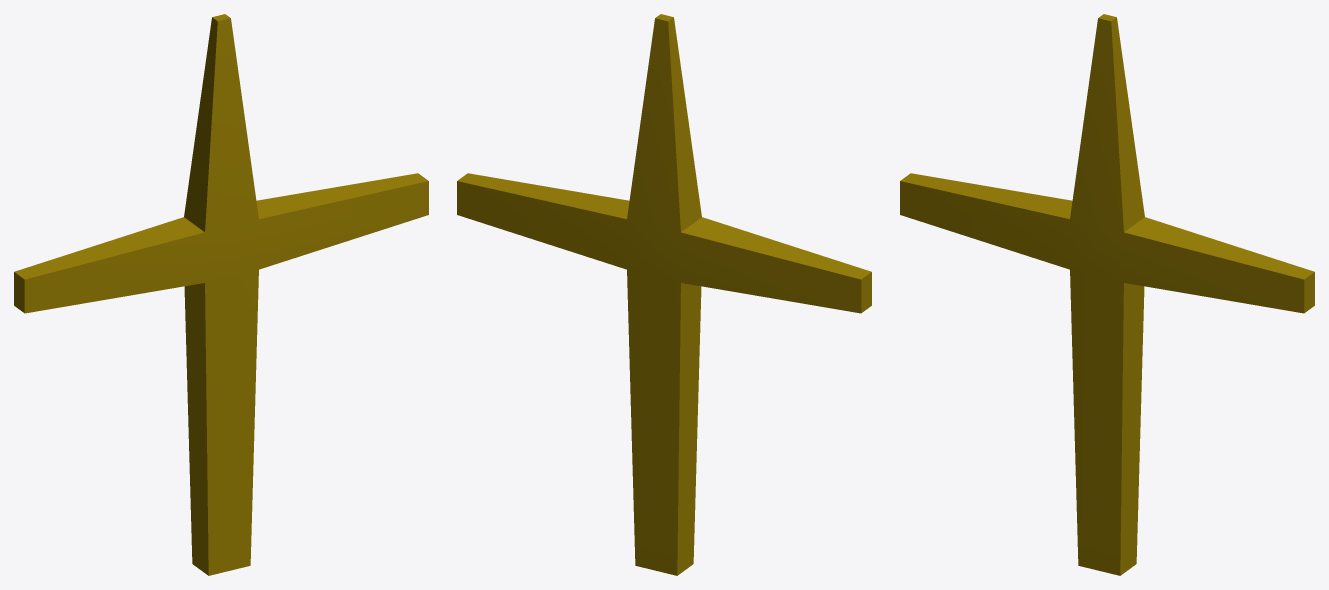
The model's file is CrossWeapon.fbx.
3 views of the same model, side by side, from view 1: azimuth 30°, elevation 25°; view 2: azimuth 150°, elevation 25°; view 3: azimuth 330°, elevation 25° (orthographic).
Parts seen in each view (by area): view 1: CrossWeapon; view 2: CrossWeapon; view 3: CrossWeapon.
Boxes of the visible parts, box(x1,y1,x2,y2) form: CrossWeapon: box(14, 14, 428, 575); CrossWeapon: box(457, 14, 871, 575); CrossWeapon: box(900, 14, 1314, 575).
Size of the model in its own units: 0.663 by 0.8579 by 0.0598.
